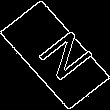N_SW: (21, 23, 89, 87)
